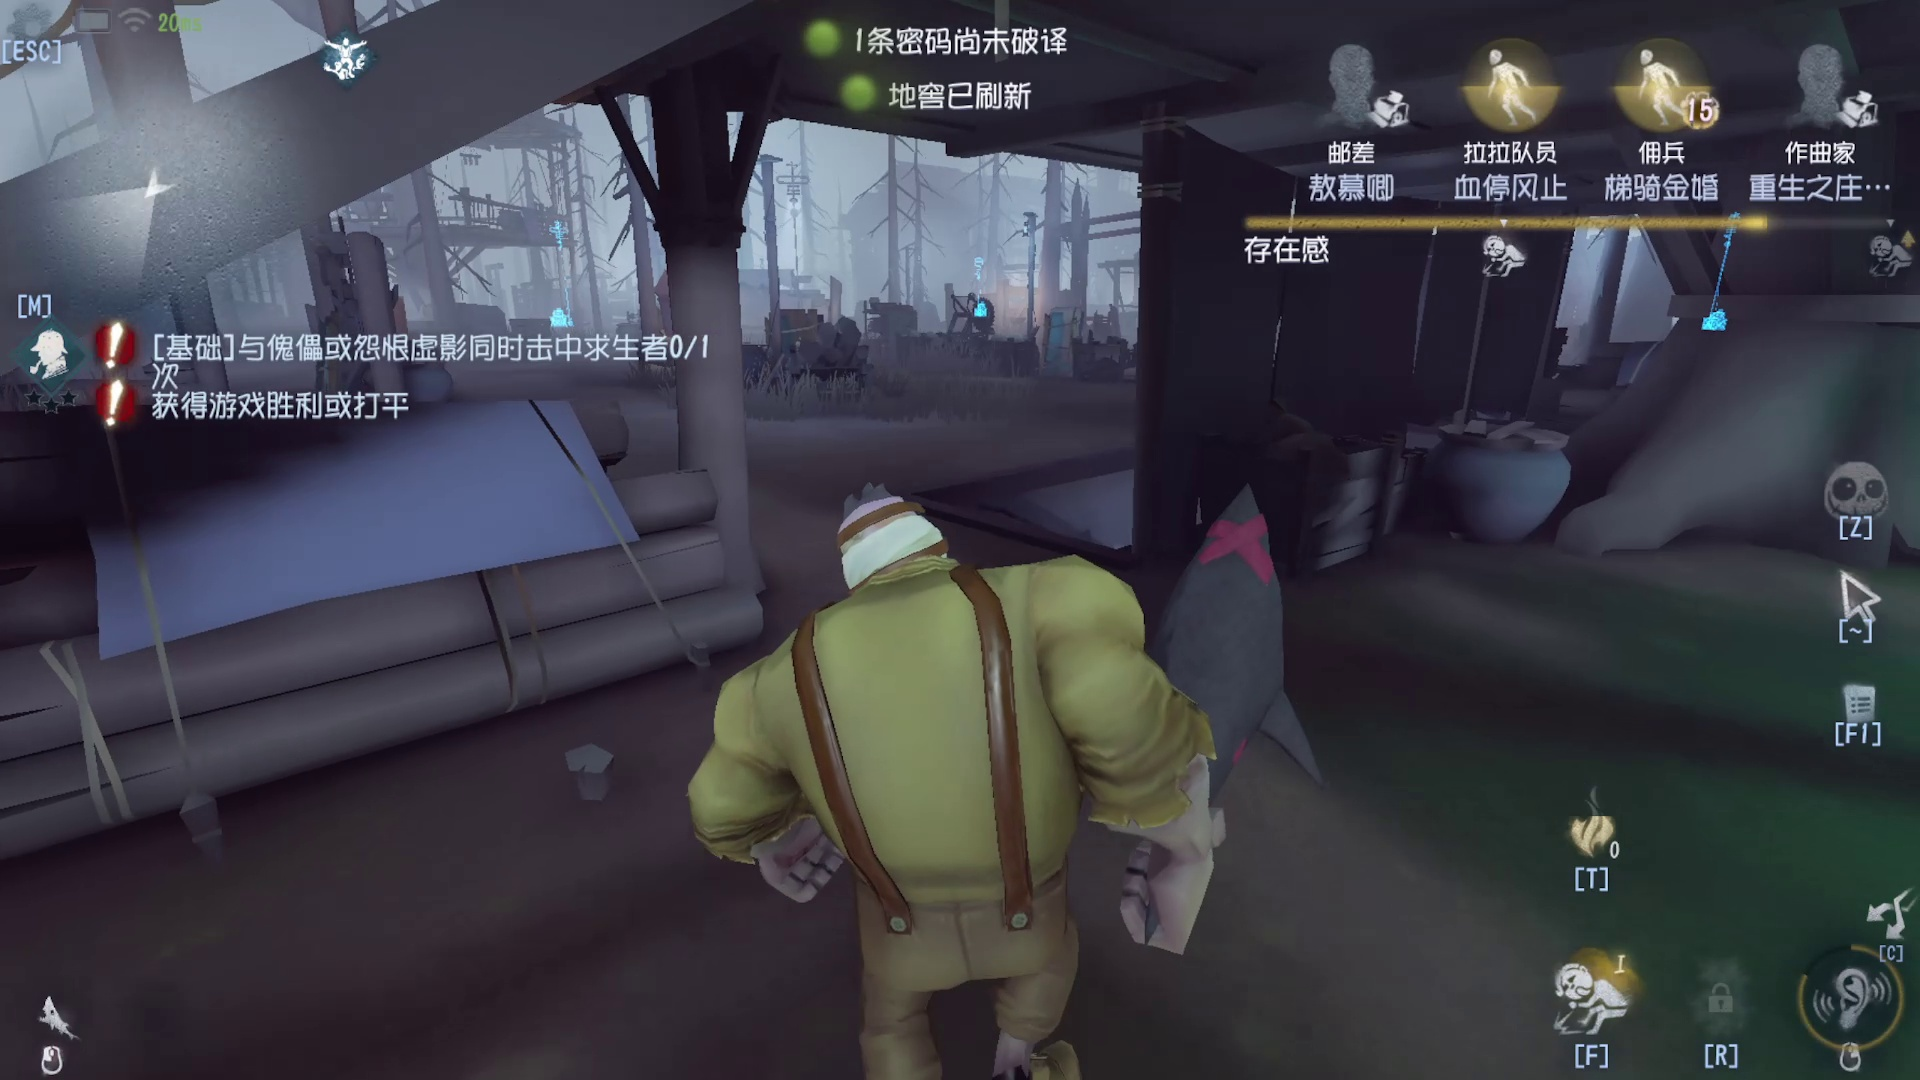密码机: (1691, 191, 1774, 364), (533, 202, 595, 367), (943, 240, 1002, 331)
